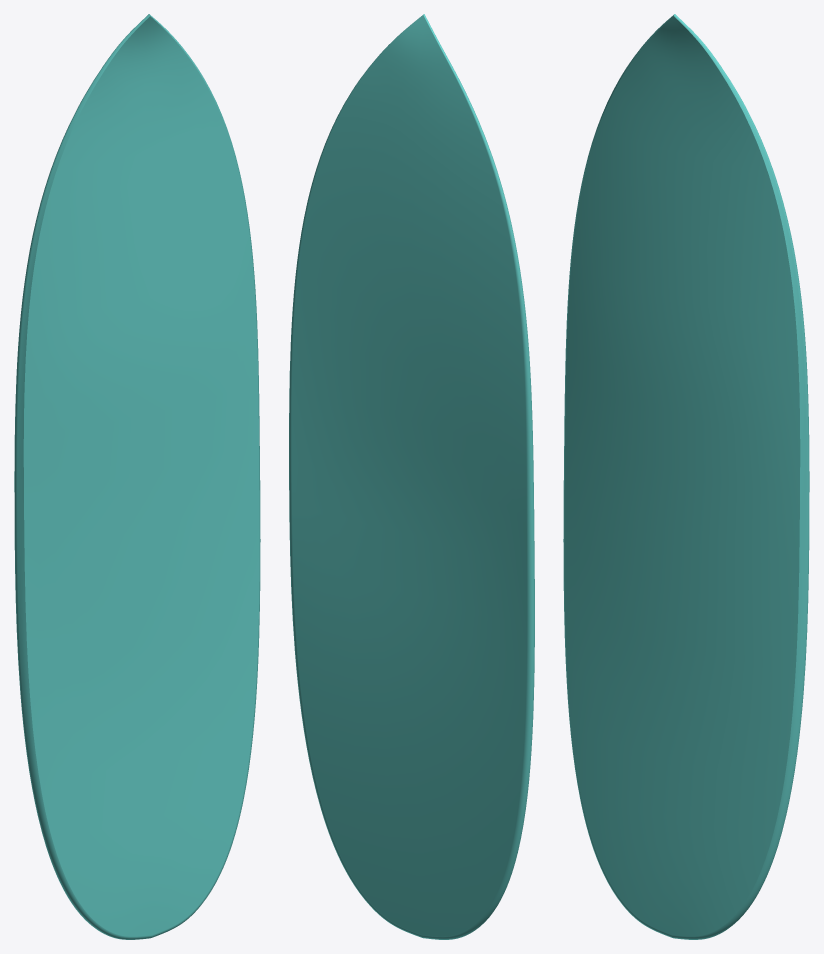
The model's file is surf.gltf.
3 renders of one model, left to right at view 1: azimuth 30°, elevation 25°; view 2: azimuth 150°, elevation 25°; view 3: azimuth 330°, elevation 25°, orthographic.
Parts seen in each view (by area): view 1: mesh2_meshnode_2, mesh0_meshnode_0, mesh1_meshnode_1; view 2: mesh3_meshnode_3, mesh0_meshnode_0, mesh1_meshnode_1; view 3: mesh2_meshnode_2, mesh1_meshnode_1, mesh0_meshnode_0.
Part boxes in pixels (<box>): mesh2_meshnode_2: <box>23,16,259,936</box>; mesh0_meshnode_0: <box>14,14,151,939</box>; mesh1_meshnode_1: <box>150,15,260,937</box>; mesh3_meshnode_3: <box>291,15,526,936</box>; mesh0_meshnode_0: <box>421,14,534,939</box>; mesh1_meshnode_1: <box>289,14,423,937</box>; mesh2_meshnode_2: <box>564,16,800,936</box>; mesh1_meshnode_1: <box>672,14,809,939</box>; mesh0_meshnode_0: <box>563,15,673,937</box>.
Bounding box in the file's own units: 0.518 × 1.87 × 0.0646.
